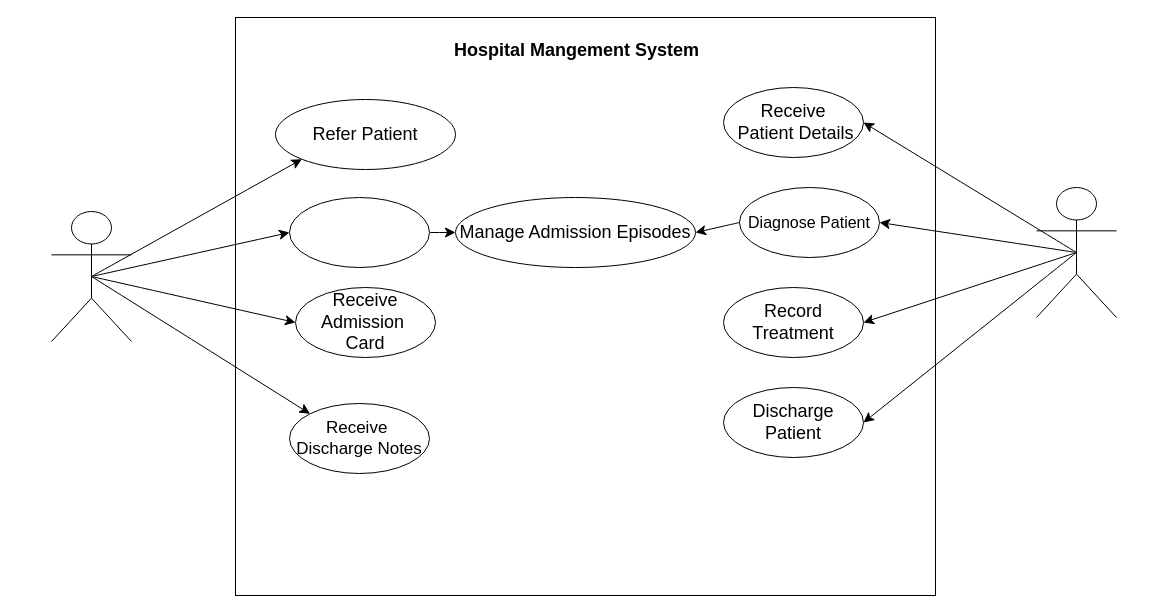
This 1155x613 diagram has some shape labels left out. The shapes that lost their labels are listed below. From the top down, each one's centre as x and y in pixels, then its label:
the point at 359,232: Provide Patient Details
the point at 1076,252: Hospital Doctor
the point at 91,276: Community Doctor
